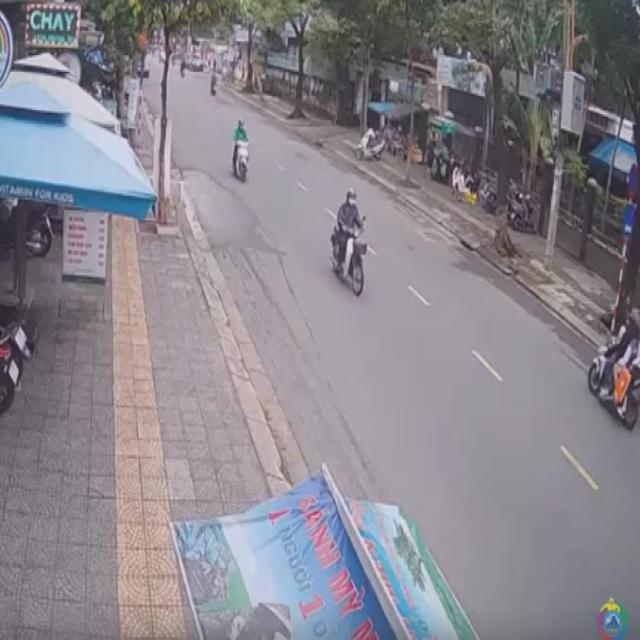motorbike: (584, 307, 640, 428), (330, 184, 367, 292), (230, 116, 250, 182)
